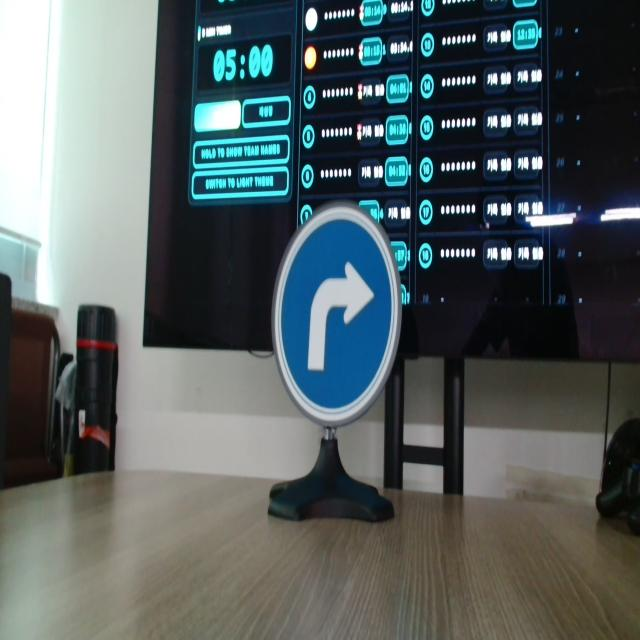right_dierection: (263, 207, 411, 433)
